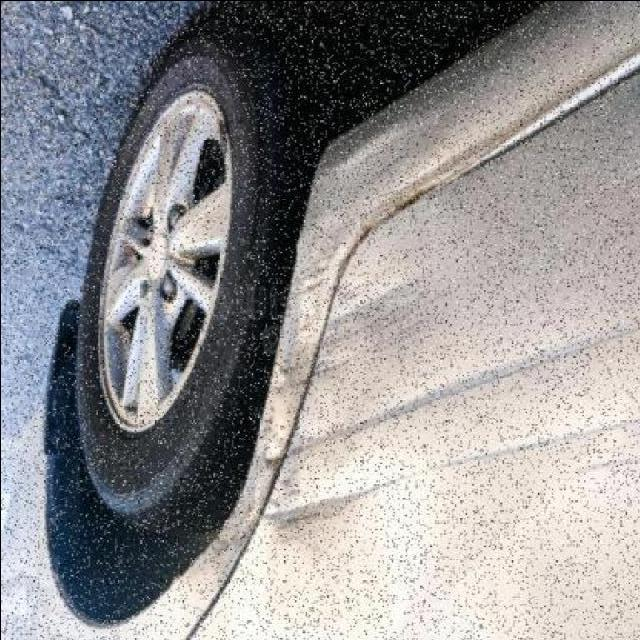doorouter-dent: (289, 130, 640, 640)
quaterpanel-dent: (86, 260, 290, 548)
